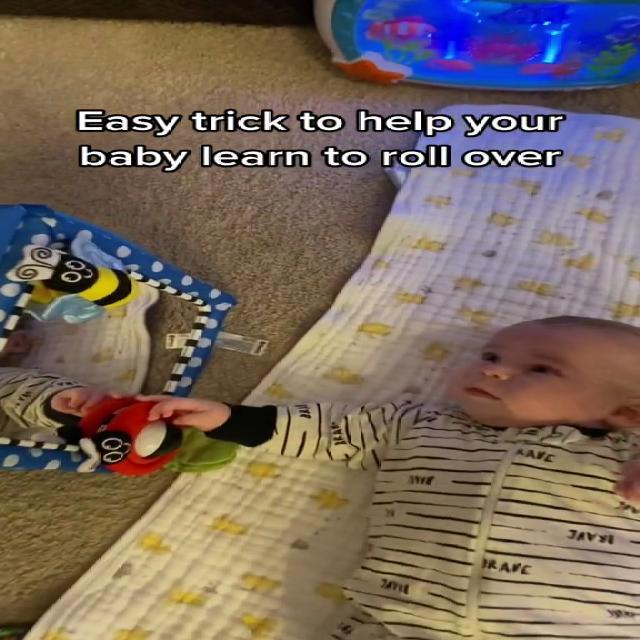baby: (136, 309, 640, 639)
